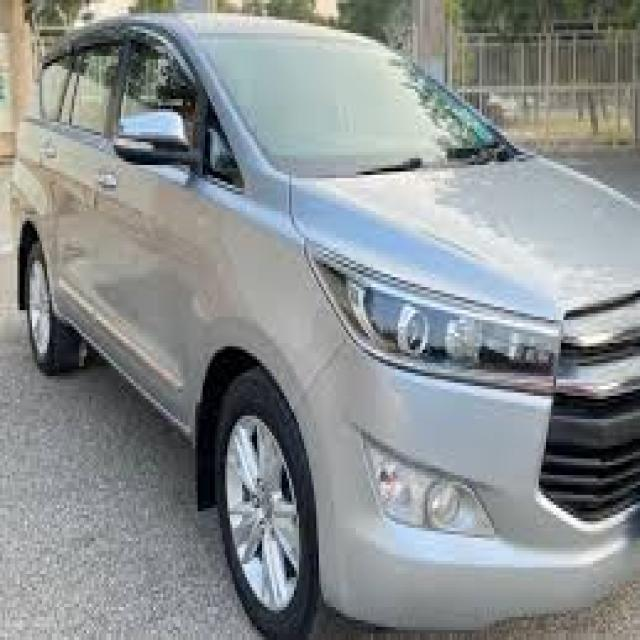light_vehicle: (12, 12, 640, 640)
